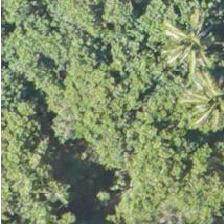Kelapa_Sawit: (141, 0, 223, 87), (166, 46, 223, 137)
